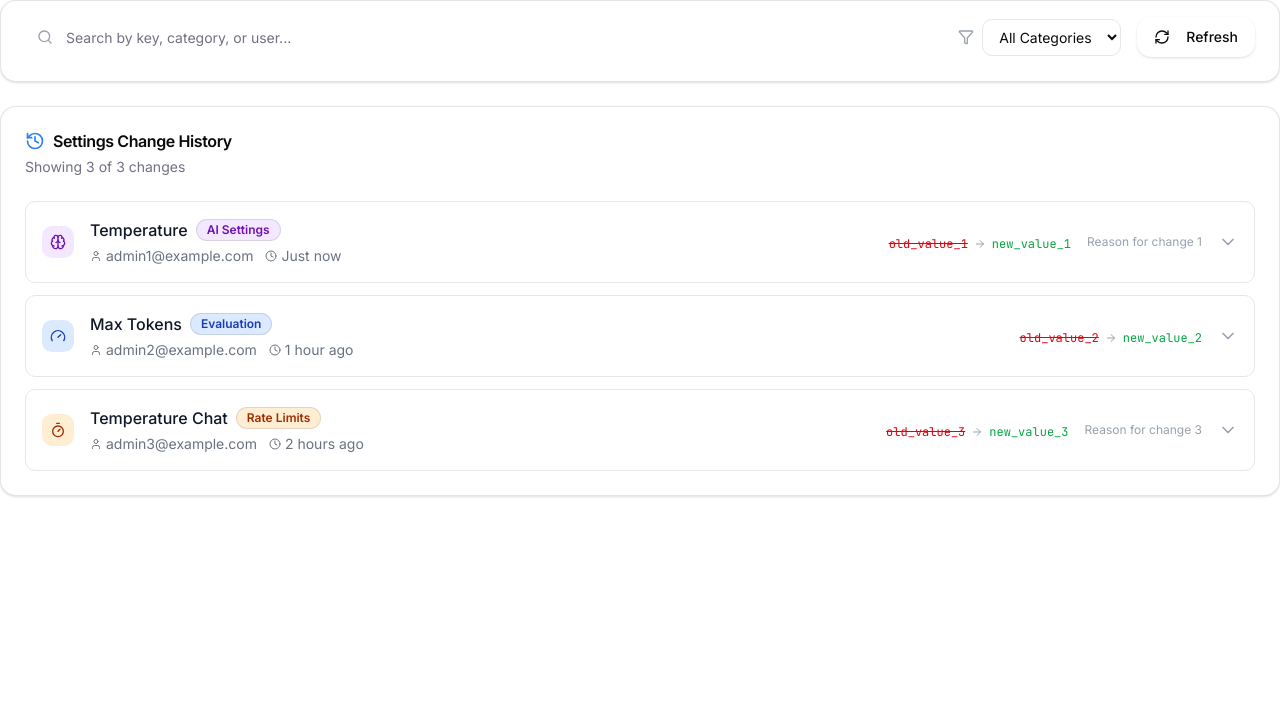
Test: SettingsHistoryPanel › Search Functionality › should filter entries by search query
The width and height of the screenshot is (1280, 720).
Expected: the heading "Settings Change History" is shown, [25,131,232,151]
In the field with placeholder "Search by key, category, or user...": (484, 37) [25,17,942,57], type "temperature"
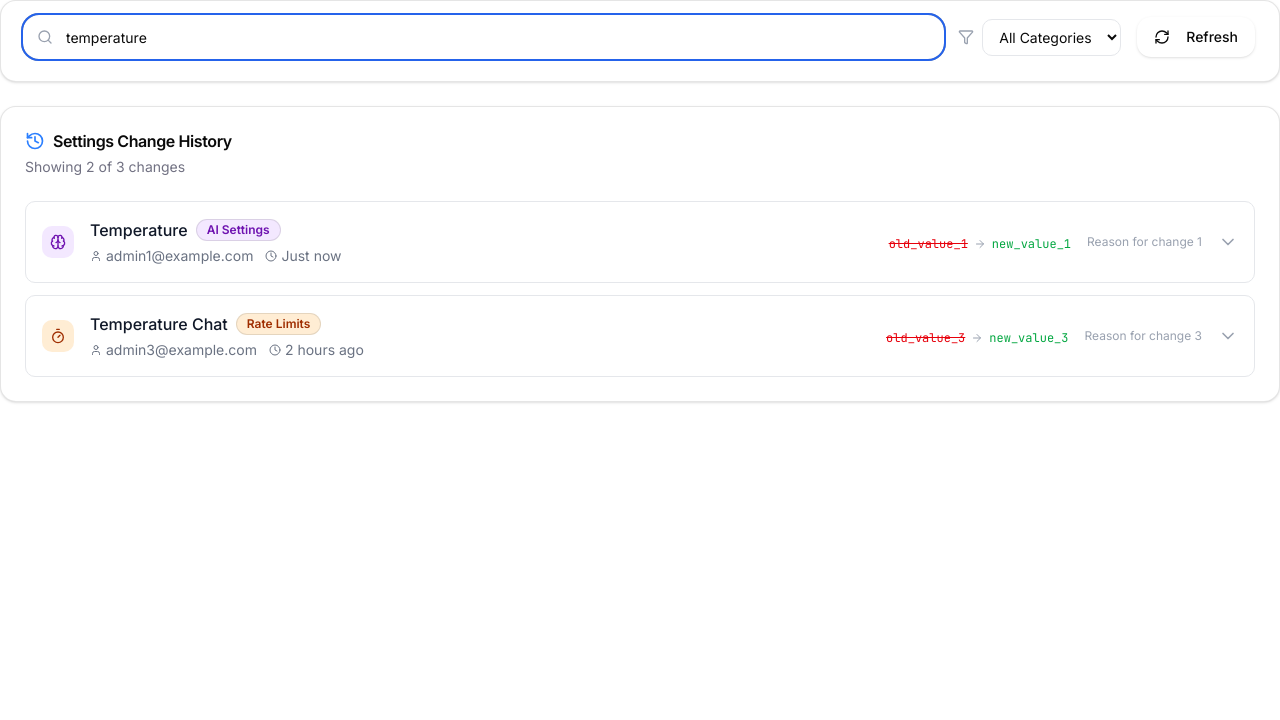
Result: the text "Showing 2 of 3 changes" is shown at [25,158,185,175]
